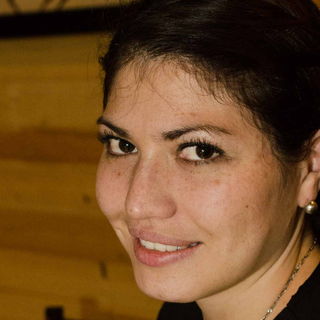eye: (175, 138, 226, 166), (97, 132, 136, 160)
